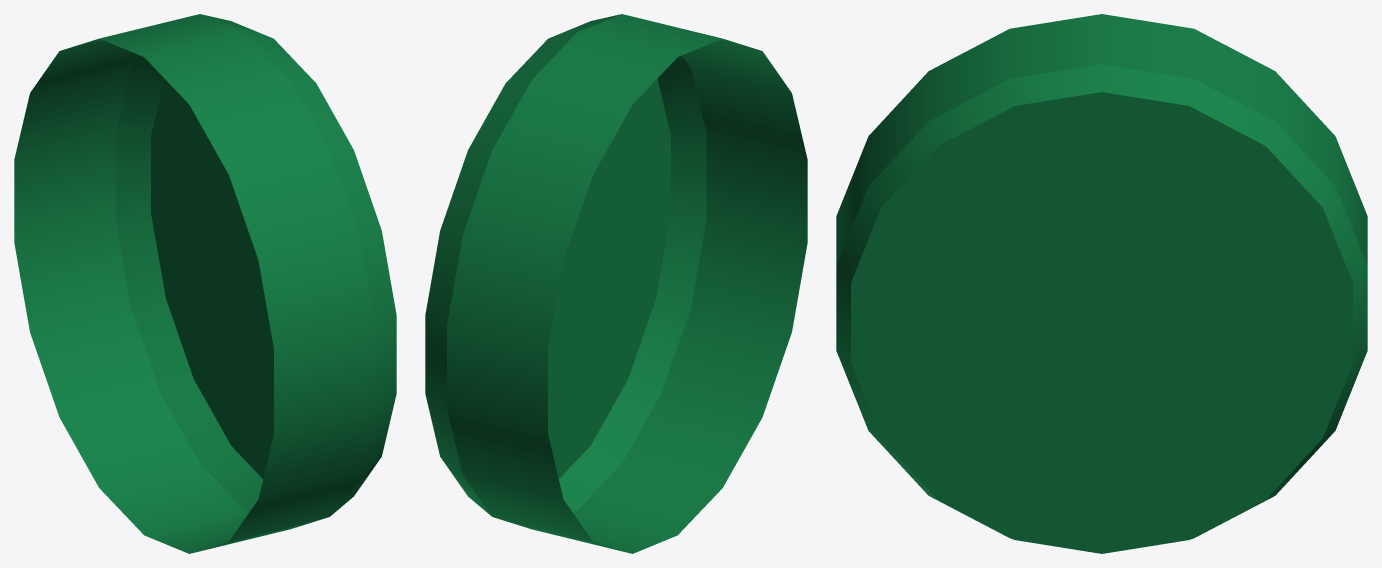
Rendered from GG_SAFE_DIAL.FBX.
3 views of the same model, side by side, from view 1: azimuth 30°, elevation 25°; view 2: azimuth 150°, elevation 25°; view 3: azimuth 270°, elevation 25° (orthographic). The views are drawn at different scales.
Visible parts, largest first — view 1: GG_SAFE_DIAL; view 2: GG_SAFE_DIAL; view 3: GG_SAFE_DIAL.
Boxes of the visible parts, box(x1,y1,x2,y2) form: GG_SAFE_DIAL: box(14, 14, 396, 553); GG_SAFE_DIAL: box(425, 14, 807, 553); GG_SAFE_DIAL: box(836, 14, 1367, 553).
Bounding box in the file's own units: 1.59 × 5.59 × 5.5.
